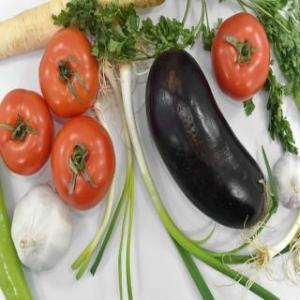eggplant: (148, 45, 276, 229)
garlic: (10, 186, 72, 272), (272, 150, 300, 210)
tomato: (48, 114, 118, 210), (42, 28, 100, 116), (215, 12, 271, 102), (0, 84, 50, 174)
